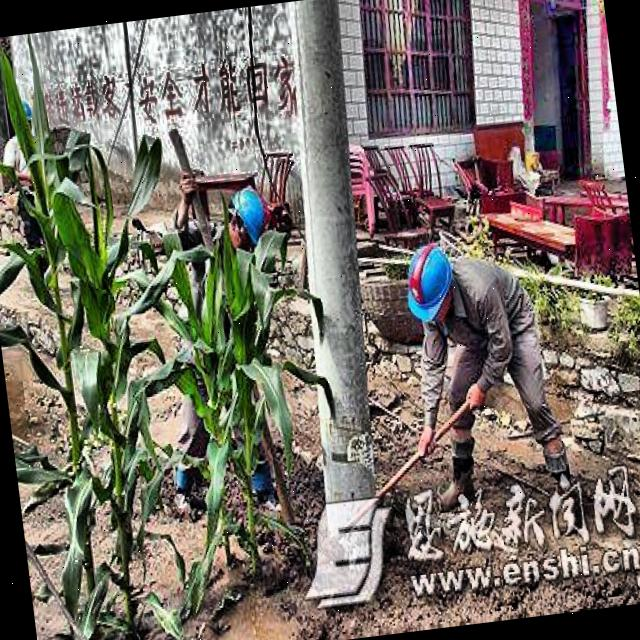helmet: (402, 234, 462, 321), (228, 182, 271, 252)
